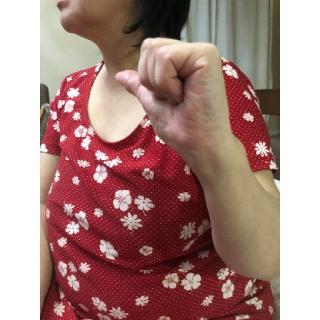WAW: (110, 32, 242, 160)
